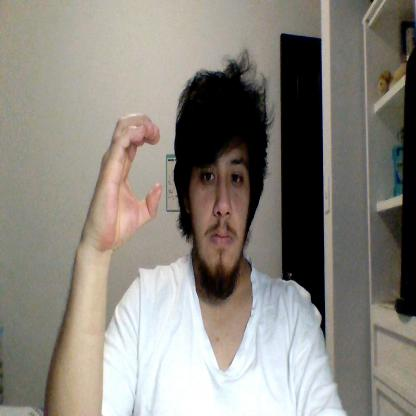C: (88, 114, 162, 250)
